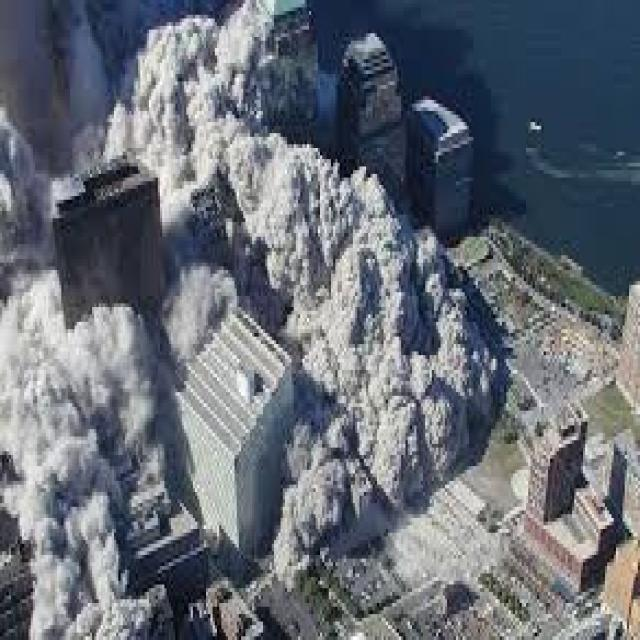Smoke: (276, 138, 508, 523), (0, 330, 175, 634), (129, 0, 274, 329), (0, 0, 128, 329)
